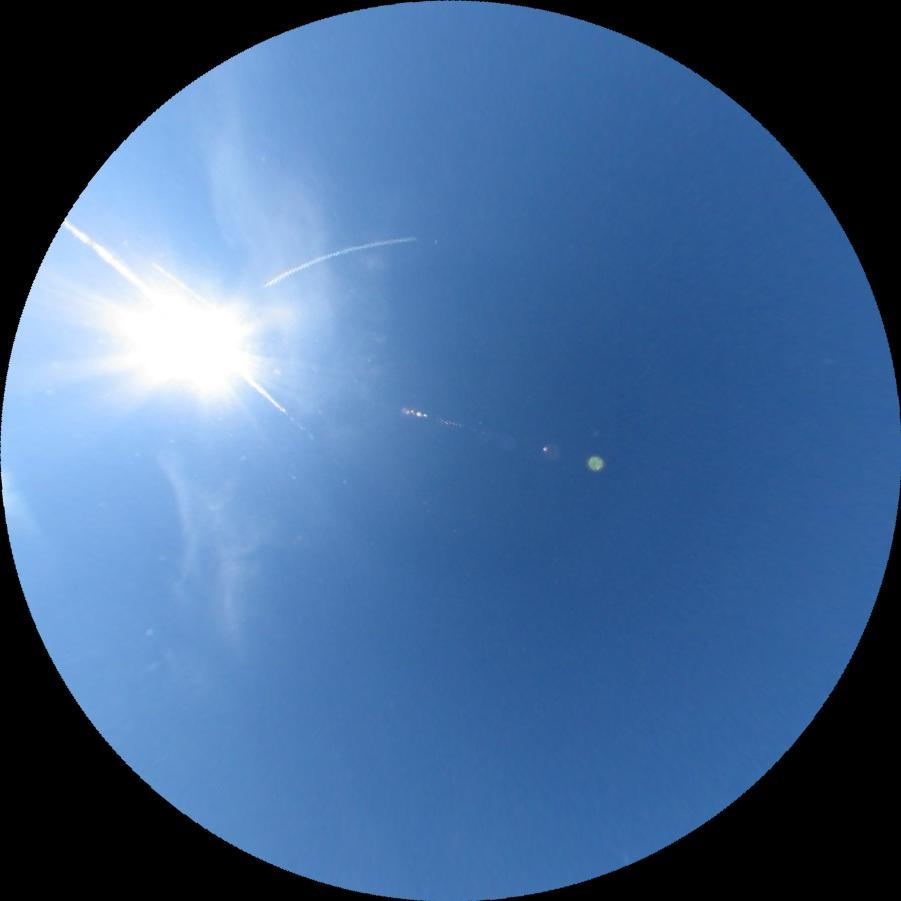contrail young: (259, 226, 417, 287)
parasite: (60, 214, 158, 298), (237, 365, 289, 413)
sun: (103, 271, 270, 404)
